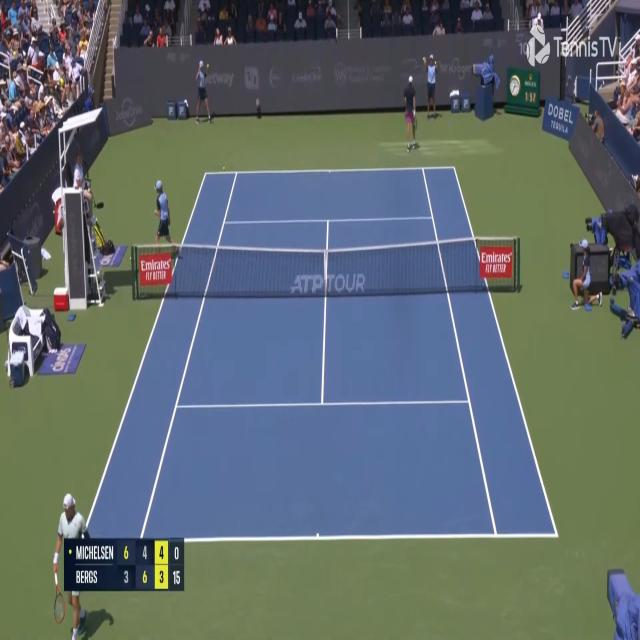tennis-player: (52, 490, 96, 639), (402, 75, 419, 154)
